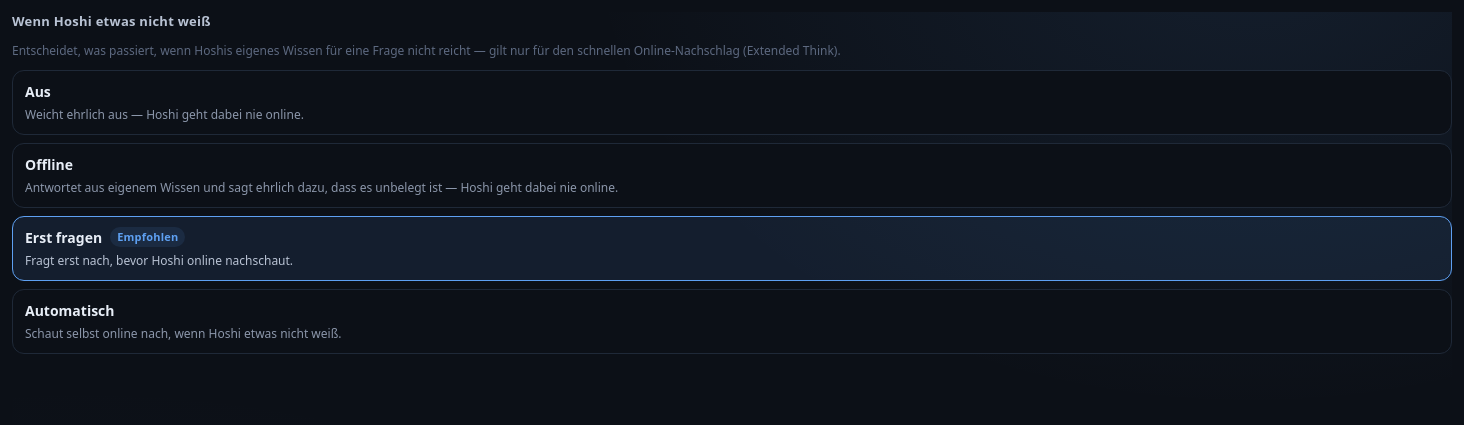
it: ExtendedThinkSection — Container: laden/wählen/Fehler/Readback › Fehler (409 — Decke zu): ehrliche Notiz, der Ist-Zustand wird ehrlich neu geladen
What coordinates should you click on to do the following:
click the radio button that starts with "Automatisch"
I would click on:
 (70, 310)
Its box is [12,288,1452,354].
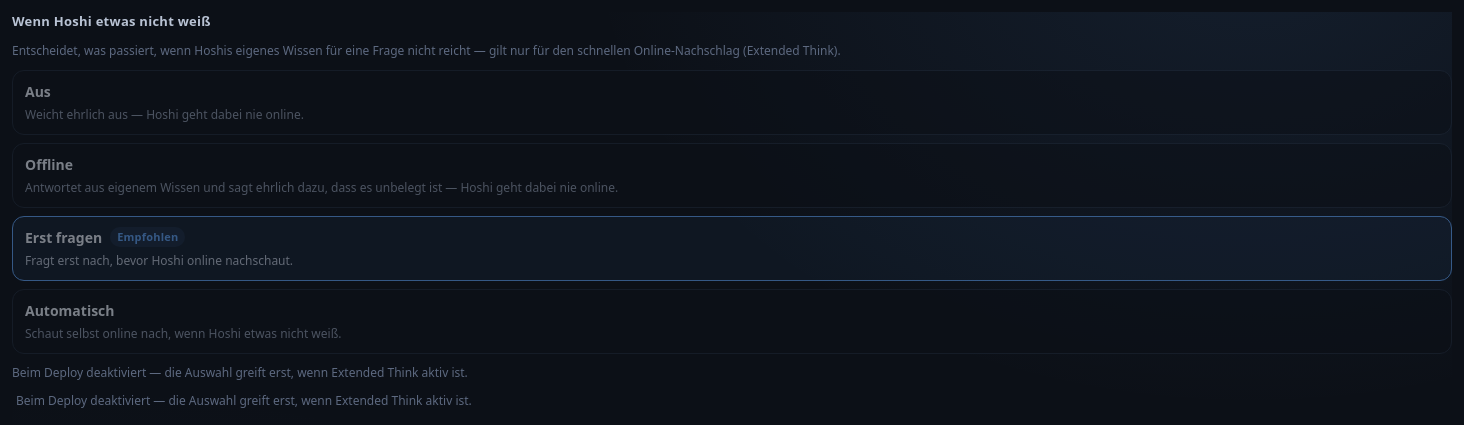
expect the text "Beim Deploy deaktiviert — die Auswahl greift erst, wenn Extended Think aktiv ist." is shown: met, box [12,364,468,380]
expect the radio button that starts with "Automatisch" is disabled: met, box [12,288,1452,354]
